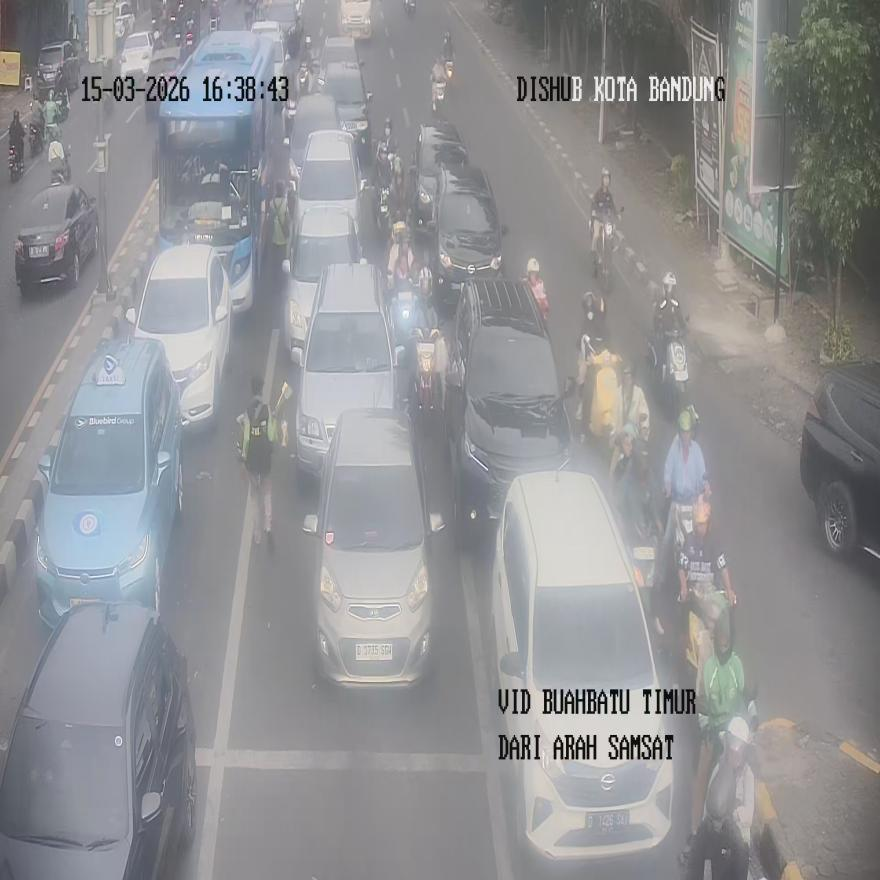Mobil: (492, 470, 674, 862), (0, 602, 197, 878), (35, 337, 184, 628), (303, 406, 444, 687), (444, 278, 572, 541), (295, 260, 404, 477), (126, 241, 230, 429), (799, 359, 880, 561), (282, 205, 364, 364), (433, 163, 506, 306), (13, 183, 98, 290), (292, 130, 365, 254)
Motor: (580, 350, 621, 448), (648, 329, 689, 416), (591, 206, 621, 293), (411, 332, 440, 413), (50, 142, 72, 184), (8, 129, 25, 181), (373, 186, 391, 234), (28, 110, 43, 156), (431, 77, 445, 114), (298, 61, 310, 95), (210, 12, 219, 34), (404, 0, 415, 16)
bus: (154, 30, 278, 312)
